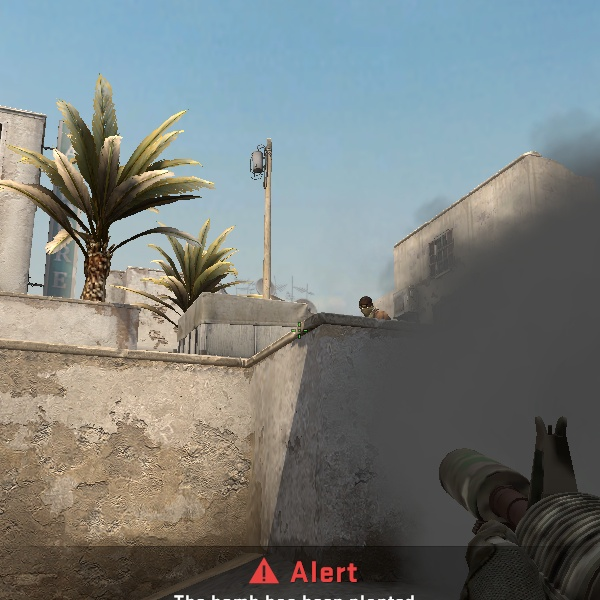t_body: (346, 292, 387, 320)
